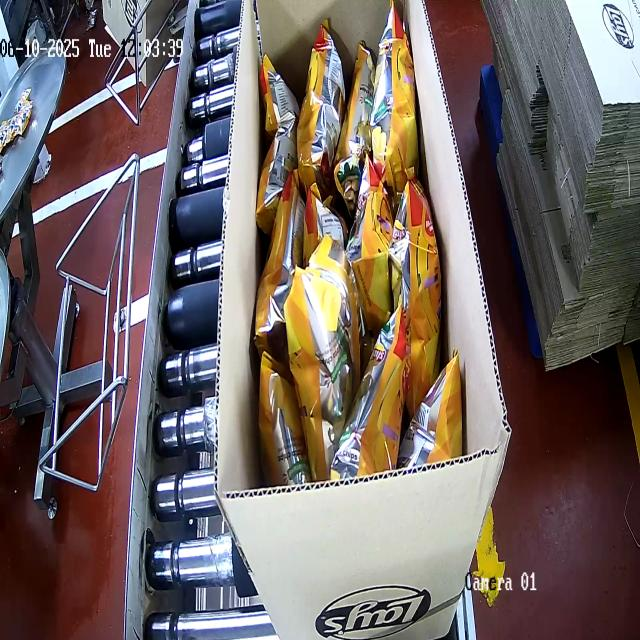FRENCH_CHEESE: (237, 12, 462, 467)
